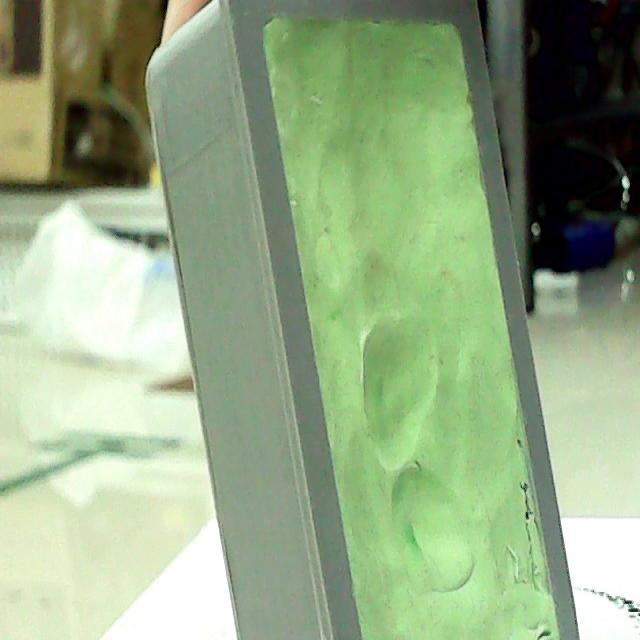block: (122, 6, 586, 640)
